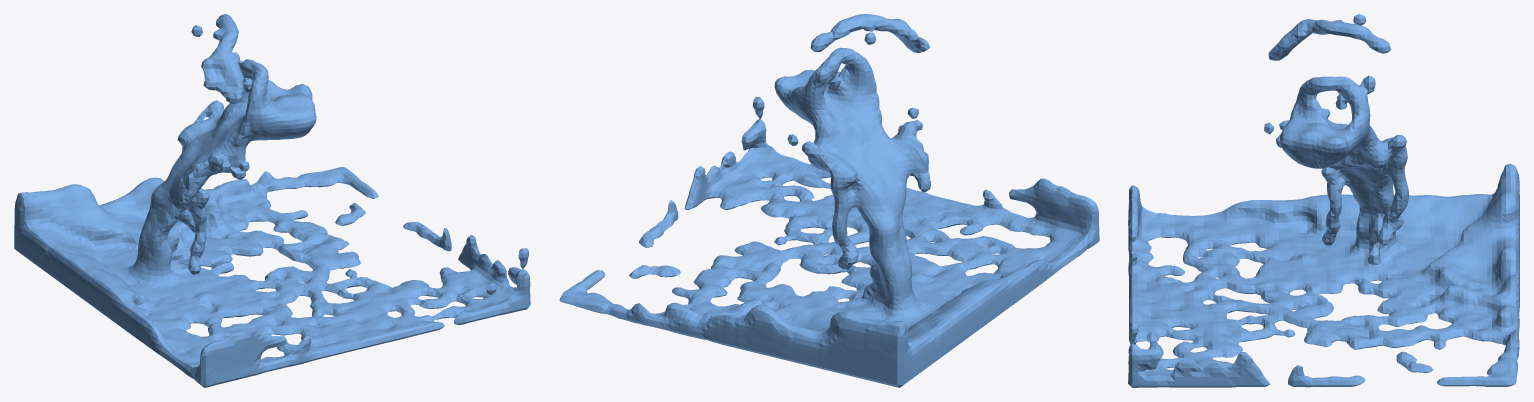
File: water_0061.glb
The picture shows the model from 3 angles, left to right: view 1: azimuth 30°, elevation 25°; view 2: azimuth 150°, elevation 25°; view 3: azimuth 270°, elevation 25°; orthographic projection. The views are drawn at different scales.
Visible parts, largest first — view 1: Water_0061; view 2: Water_0061; view 3: Water_0061.
Part boxes in pixels (left/top/right/bottom): Water_0061: left=14, top=14, right=530, bottom=387; Water_0061: left=559, top=14, right=1099, bottom=387; Water_0061: left=1128, top=14, right=1519, bottom=387.
Bounding box in the file's own units: 4.83 × 3.63 × 4.83.
